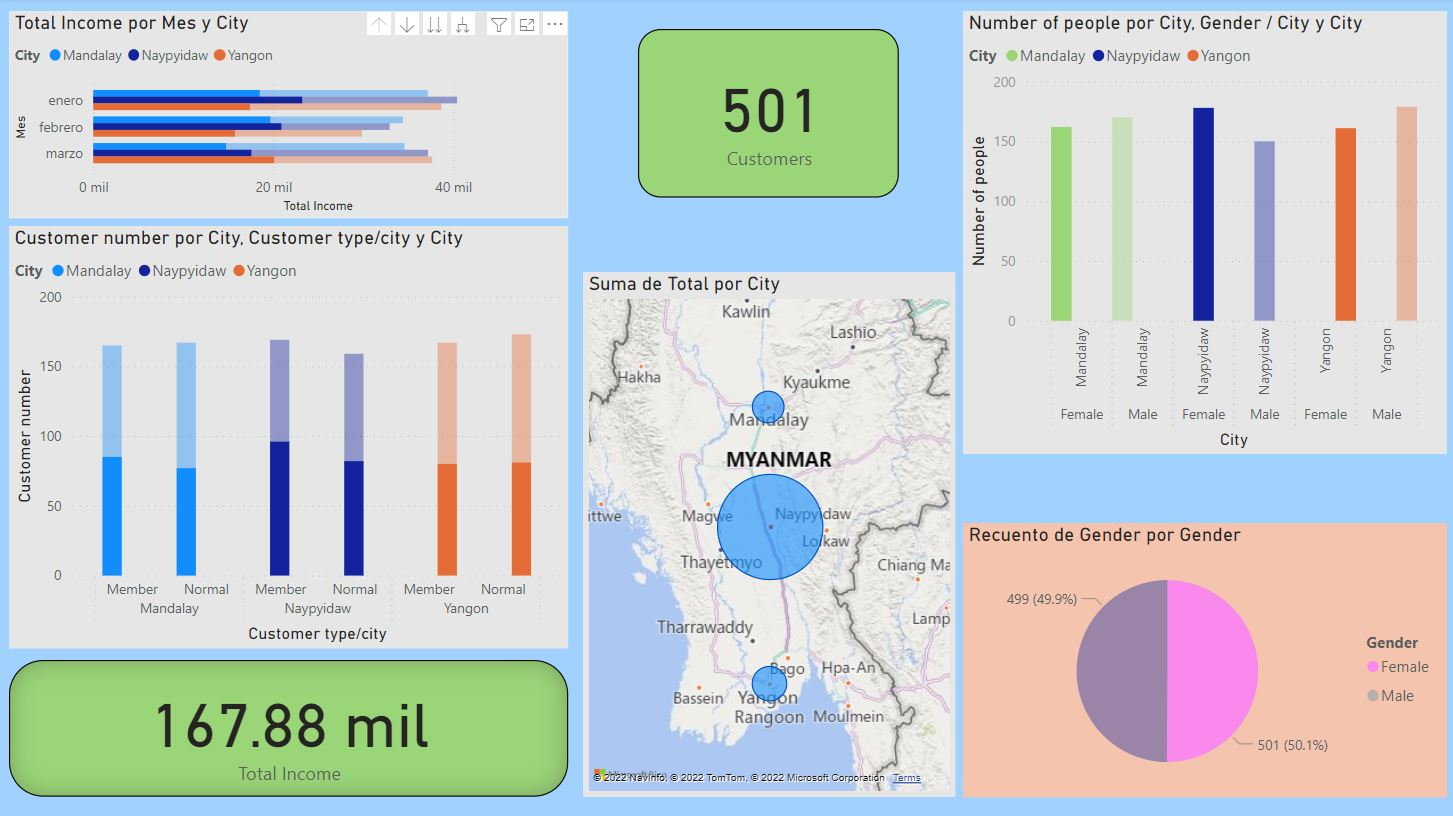

The dashboard page shown, as its layout file describes it:
{"tool":"powerbi","page":{"name":"Gender, costumer type and income per city","canvas":[1280,720],"ordinal":0},"visuals":[{"type":"clusteredColumnChart","fields":{"Category":["supermarket_sales - Sheet1.City","supermarket_sales - Sheet1.Customer type"],"Series":["supermarket_sales - Sheet1.City"],"Y":["CountNonNull(supermarket_sales - Sheet1.Customer type)"]},"box":[9.7,200.4,503.8,380.3],"z":0},{"type":"card","fields":{"Values":["CountNonNull(supermarket_sales - Sheet1.Customer type)"]},"box":[580.7,69.1,228.6,148.8],"z":1000},{"type":"map","fields":{"Category":["supermarket_sales - Sheet1.City"],"Size":["Sum(supermarket_sales - Sheet1.Total)"]},"box":[513.6,240.2,326.8,479.5],"z":2000},{"type":"clusteredColumnChart","fields":{"Category":["supermarket_sales - Sheet1.City","supermarket_sales - Sheet1.Gender"],"Y":["CountNonNull(supermarket_sales - Sheet1.Gender)"],"Series":["supermarket_sales - Sheet1.City"]},"box":[840.4,36,439.6,407.5],"z":3000},{"type":"card","fields":{"Values":["Sum(supermarket_sales - Sheet1.Total)"]},"box":[9.7,593.3,503.8,126.4],"z":4000},{"type":"pieChart","fields":{"Category":["supermarket_sales - Sheet1.Gender"],"Y":["CountNonNull(supermarket_sales - Sheet1.Gender)"]},"box":[840.4,470.8,439.6,249],"z":5000},{"type":"clusteredBarChart","fields":{"Category":["supermarket_sales - Sheet1.Date.Variación.Jerarquía de fechas.Mes","supermarket_sales - Sheet1.Date.Variación.Jerarquía de fechas.Día"],"Y":["Sum(supermarket_sales - Sheet1.Total)"],"Series":["supermarket_sales - Sheet1.City"]},"box":[9.7,11.7,503.8,180.9],"z":6000}]}

Visuals, with their boxes in screenshot pixels (x1, y1, x2, y2), scaled from the page's 1280x720 canvas onto the 1453x816 screenshot:
clusteredColumnChart - supermarket_sales - Sheet1.City x supermarket_sales - Sheet1.Customer type: box=[11, 227, 583, 658]
card - CountNonNull(supermarket_sales - Sheet1.Customer type): box=[659, 78, 919, 247]
map - supermarket_sales - Sheet1.City x Sum(supermarket_sales - Sheet1.Total): box=[583, 272, 954, 815]
clusteredColumnChart - supermarket_sales - Sheet1.City x supermarket_sales - Sheet1.Gender: box=[954, 41, 1452, 503]
card - Sum(supermarket_sales - Sheet1.Total): box=[11, 672, 583, 815]
pieChart - supermarket_sales - Sheet1.Gender x CountNonNull(supermarket_sales - Sheet1.Gender): box=[954, 534, 1452, 815]
clusteredBarChart - supermarket_sales - Sheet1.Date.Variación.Jerarquía de fechas.Mes x supermarket_sales - Sheet1.Date.Variación.Jerarquía de fechas.Día: box=[11, 13, 583, 218]
